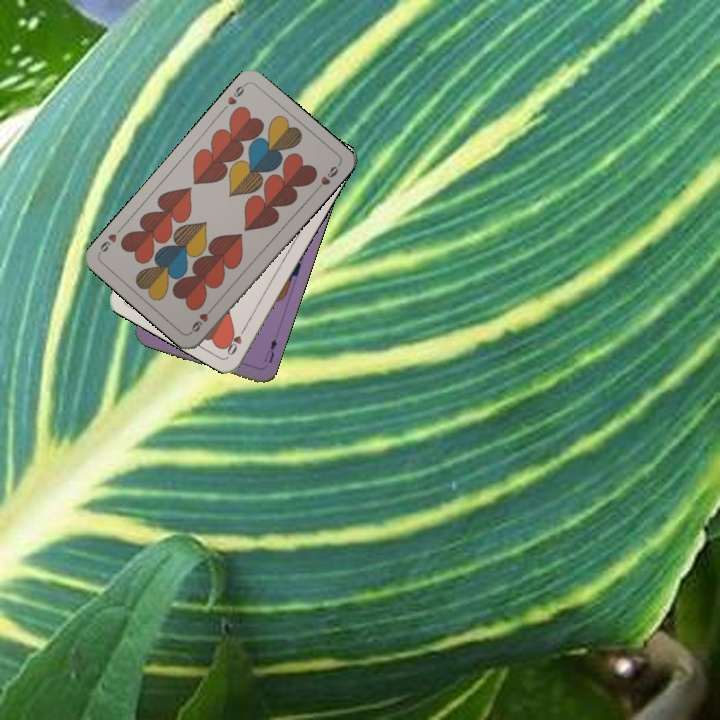EU: (260, 334, 280, 366)
H9: (186, 302, 217, 335), (223, 80, 249, 107)
HO: (223, 321, 250, 358)
